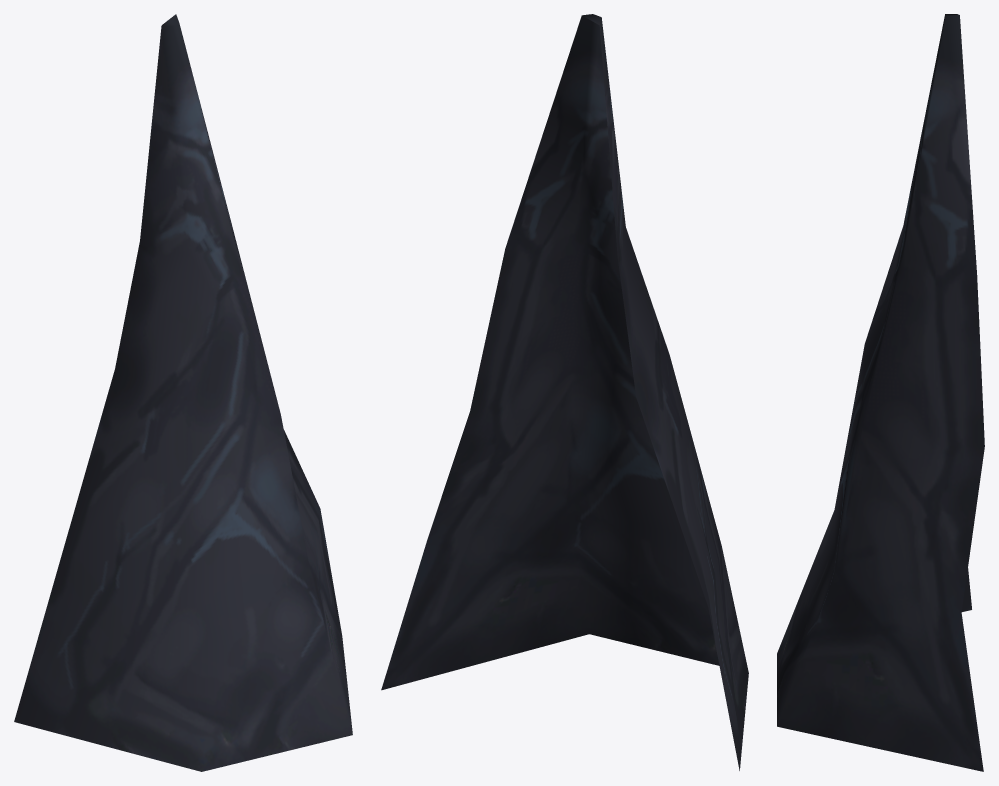
Rendered from sn_jiguan_shanshi_002.FBX.
3 renders of one model, left to right at view 1: azimuth 30°, elevation 25°; view 2: azimuth 150°, elevation 25°; view 3: azimuth 270°, elevation 25°, orthographic. The views are drawn at different scales.
Parts seen in each view (by area): view 1: sn_jiguan_shanshi_002; view 2: sn_jiguan_shanshi_002; view 3: sn_jiguan_shanshi_002.
Part boxes in pixels (bbox=[...]): sn_jiguan_shanshi_002: bbox=[14, 14, 352, 771]; sn_jiguan_shanshi_002: bbox=[381, 14, 748, 770]; sn_jiguan_shanshi_002: bbox=[777, 14, 984, 771].
Bounding box in the file's own units: 344 × 665 × 187.
